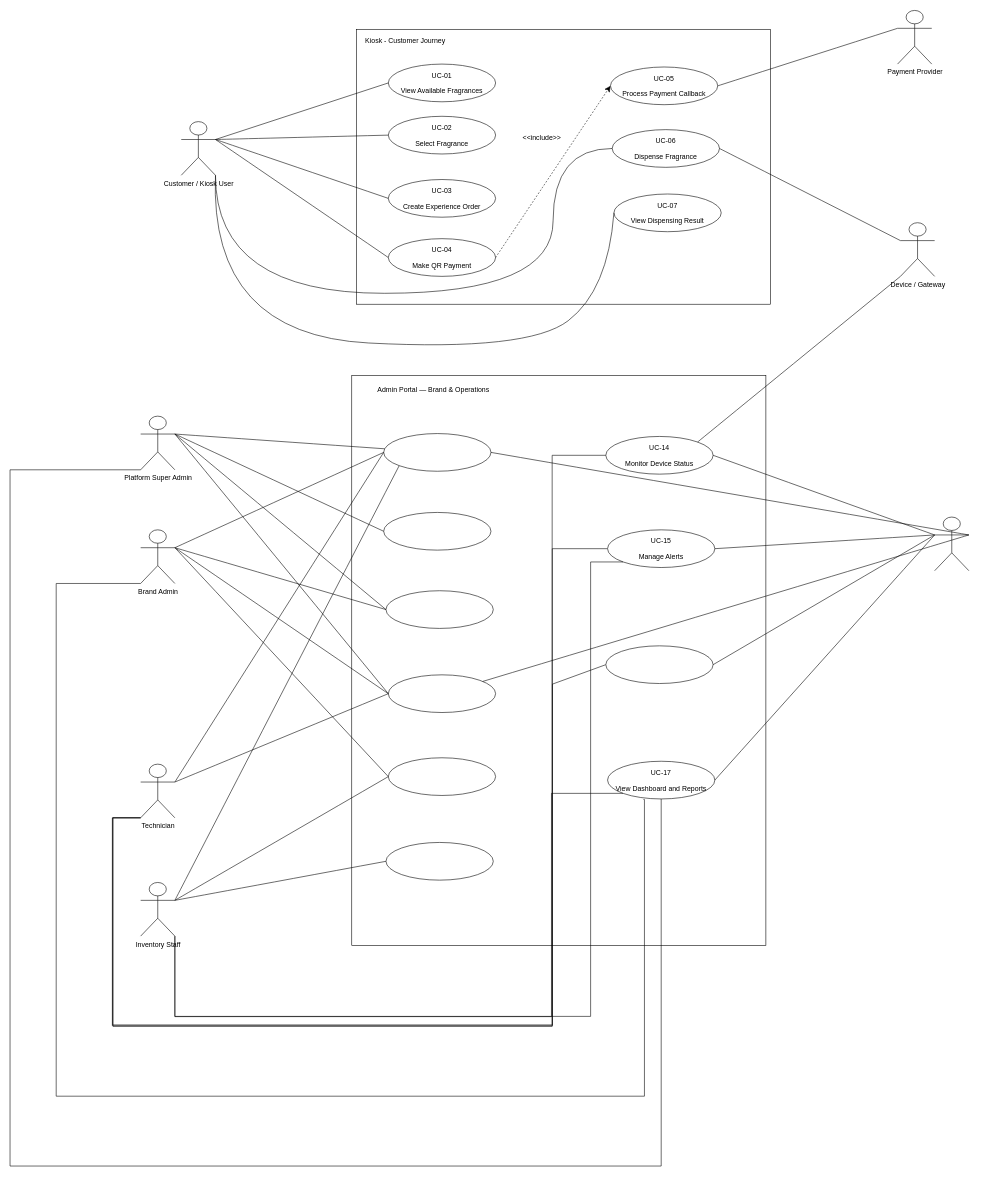
The diagram is 994 pixels wide and 1177 high, and some of its shapes have lost their labels. The shapes that lost their labels are listed below. From the top down, each one's box as (x1, y1, x2, y2) in pixels, then its label:
(383, 433, 491, 471): UC-08 Log In
(383, 512, 491, 550): UC-09 Manage Brand
(934, 516, 969, 571): Operations Manager
(385, 590, 493, 628): UC-10 Manage Products
(605, 645, 713, 684): UC-16 Manage Maintenance
(388, 674, 496, 713): UC-11 Manage Machines and Slots
(388, 757, 496, 795): UC-12 Manage Inventory
(385, 842, 493, 880): UC-13 Record Refill
